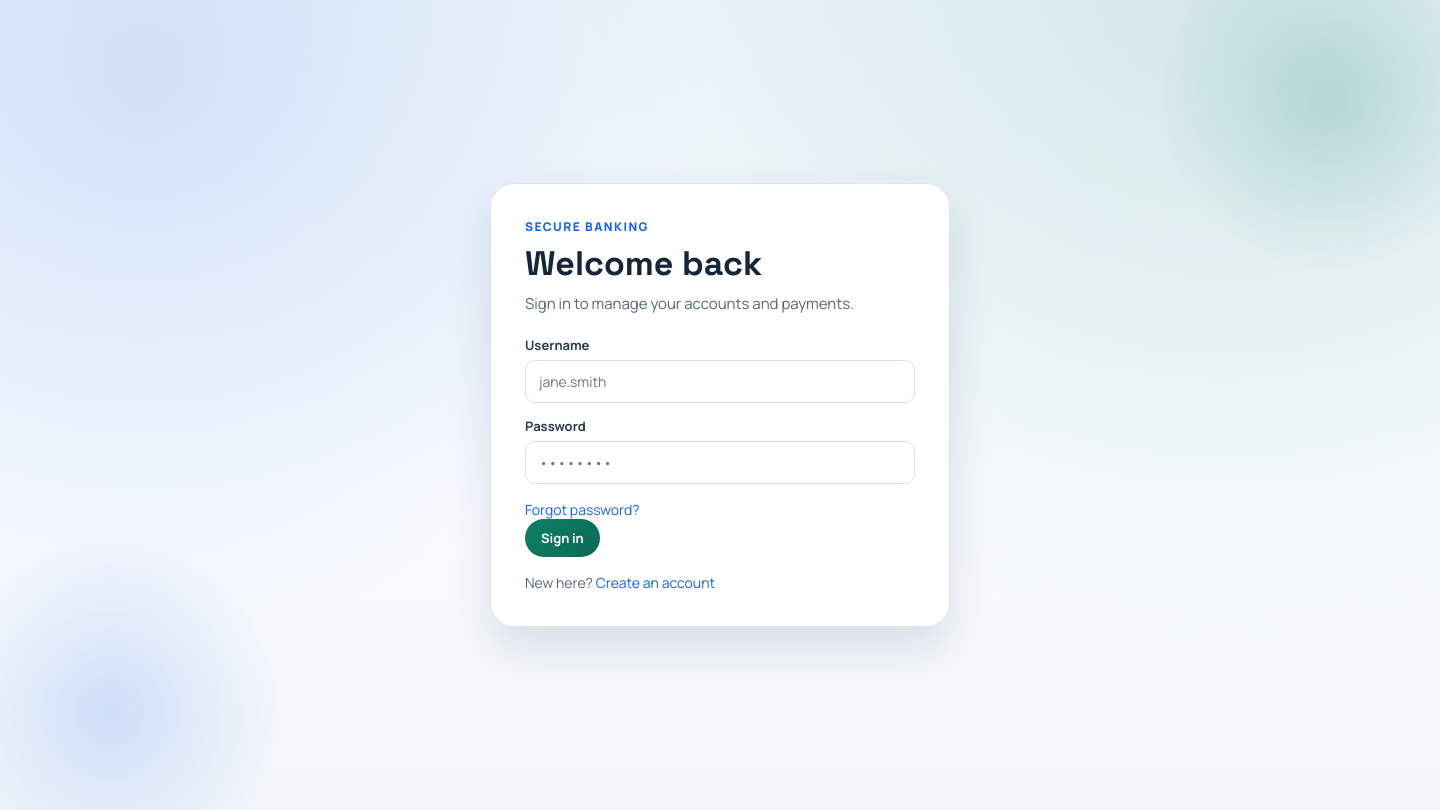
shows incorrect password message when login fails
The image size is (1440, 810).
Type "wronguser" into the field labelled "Username".
click(720, 381); type("wronguser")  # box x1=525 y1=360 x2=915 y2=403
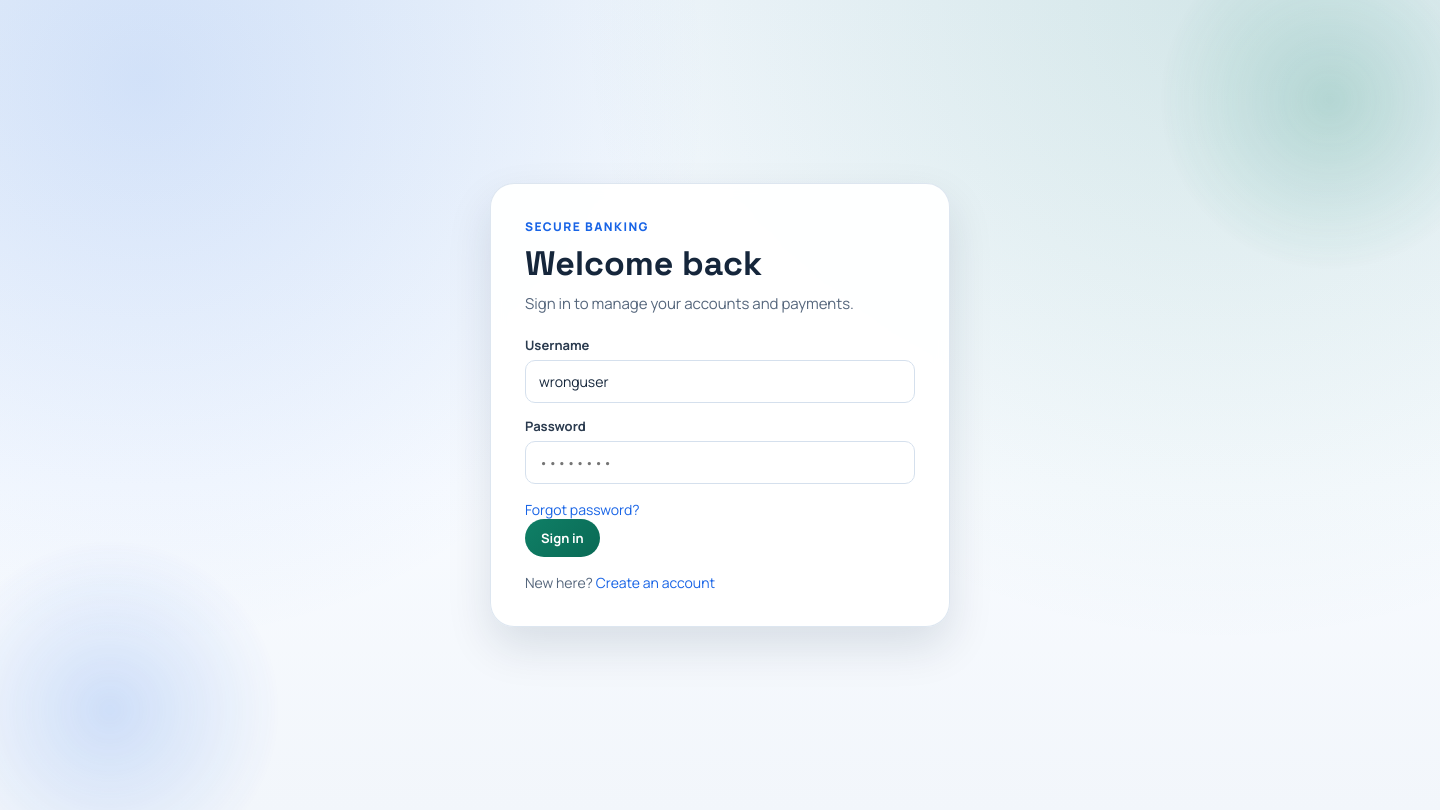
Type "wrongpass" into the password field labelled "Password".
click(720, 462); type("wrongpass")  # box x1=525 y1=441 x2=915 y2=484
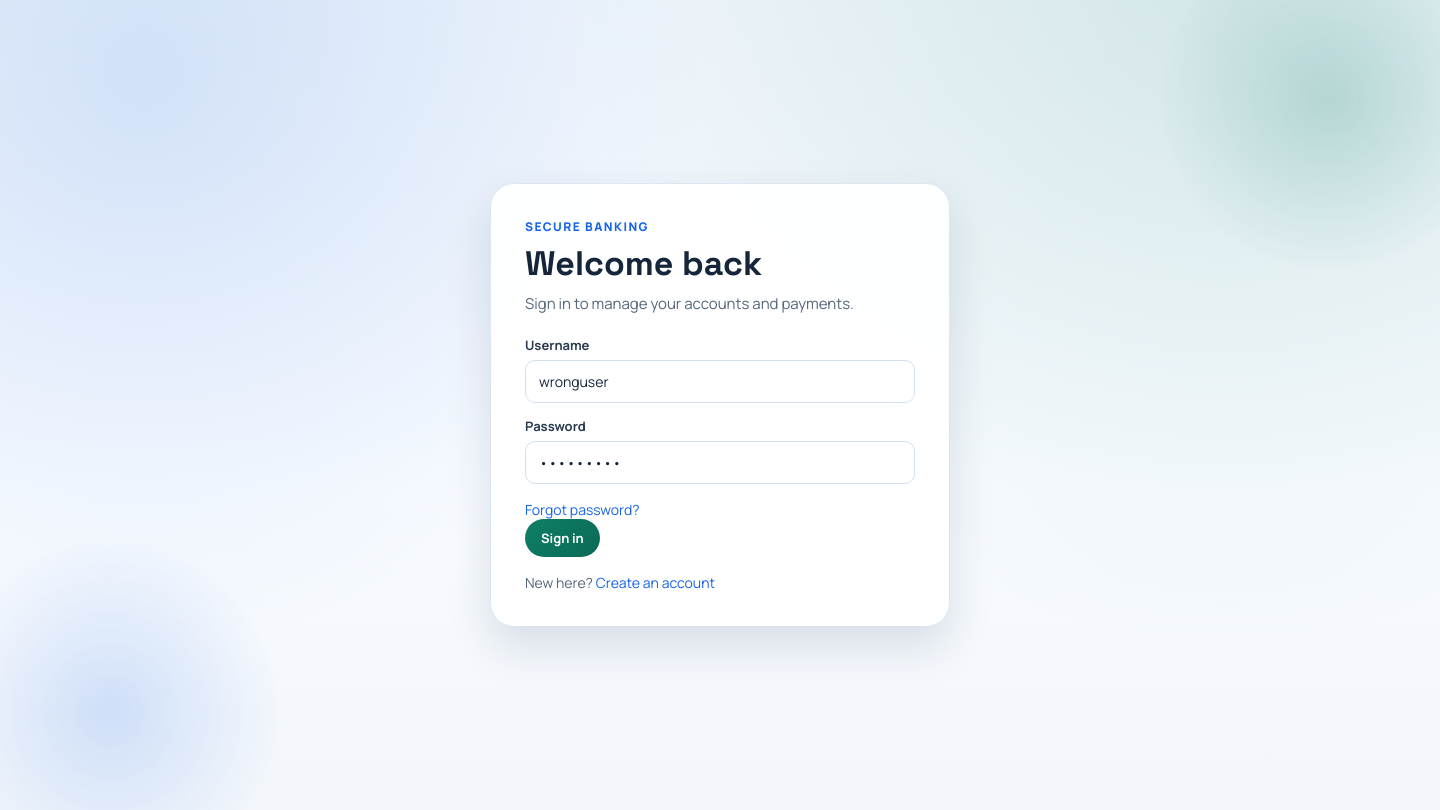
Click the button "Sign in".
click(562, 538)  # box x1=525 y1=519 x2=600 y2=557
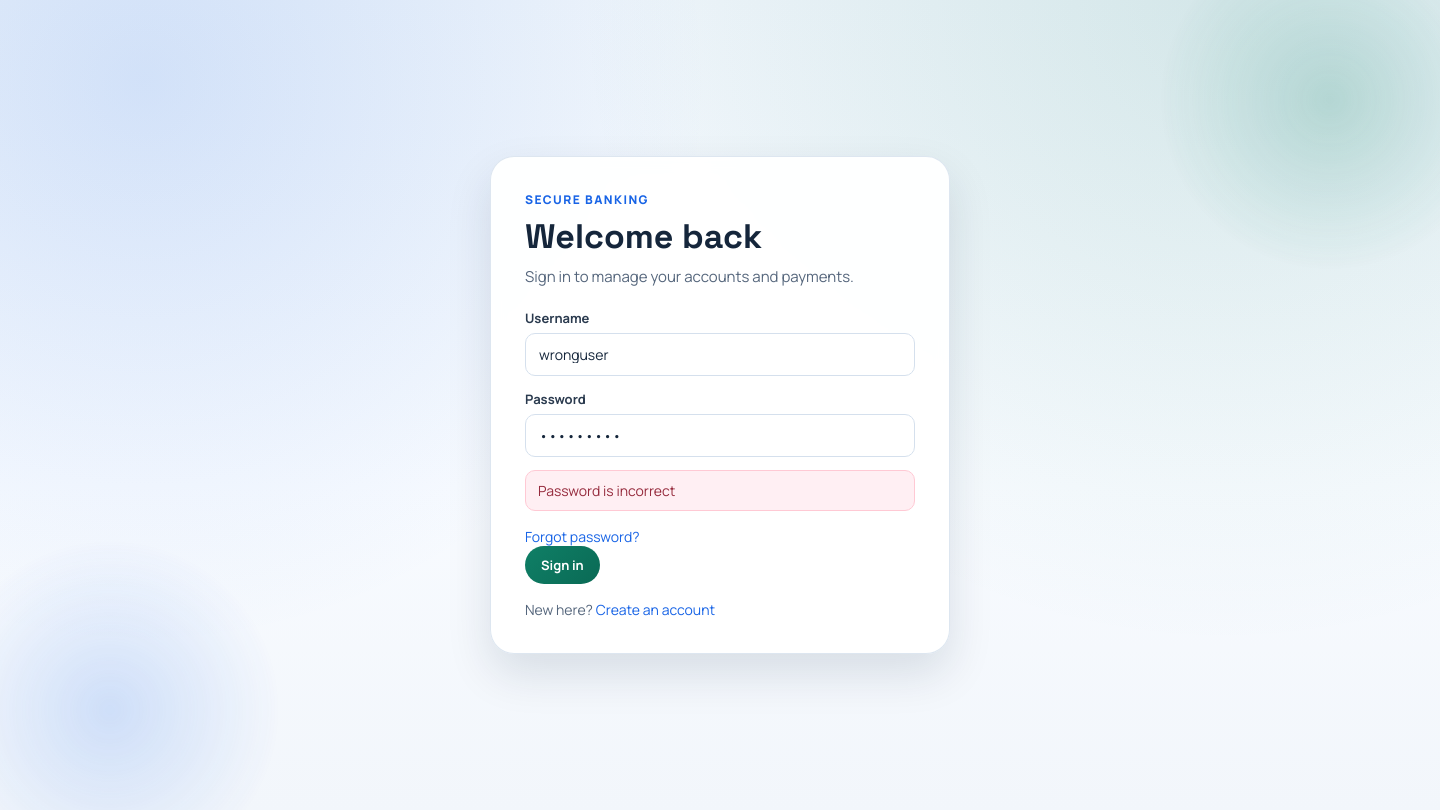
Result: the text "Password is incorrect" is shown at x1=525 y1=470 x2=915 y2=511
